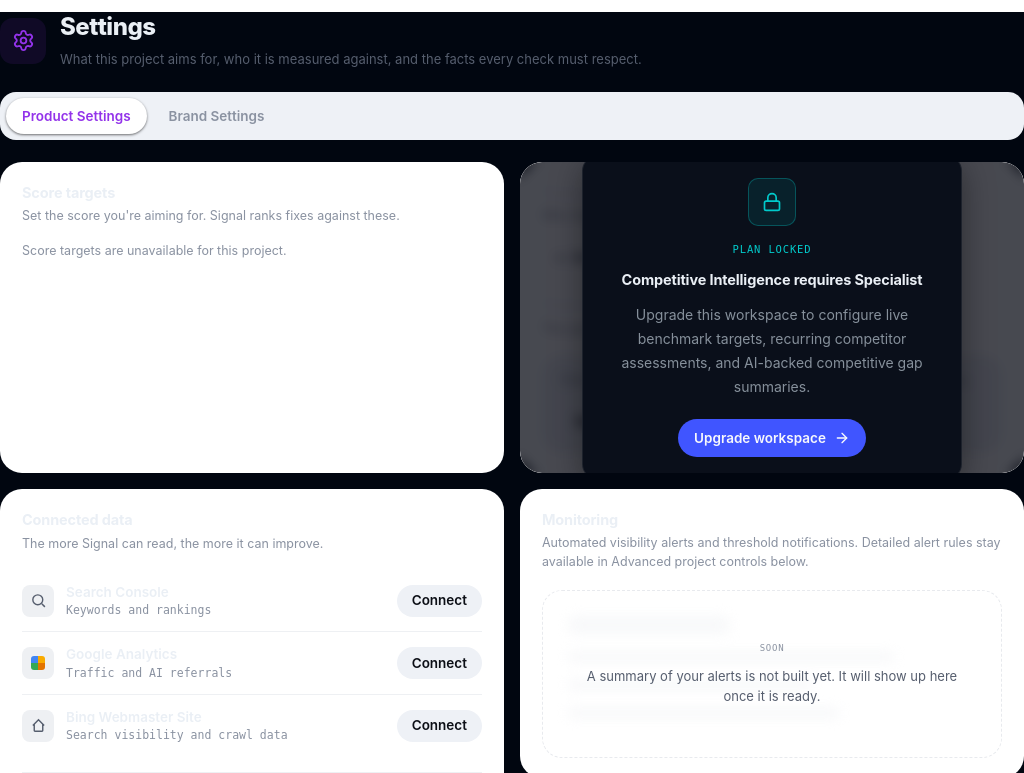
ProjectSettingsPage › offers the account connection step when the workspace grant is missing
The image size is (1024, 773).
What coordinates should you click on to do the following:
click the button with aria-label "Connect Google Analytics"
I would click on:
 (439, 663)
Its box is [397, 647, 482, 679].
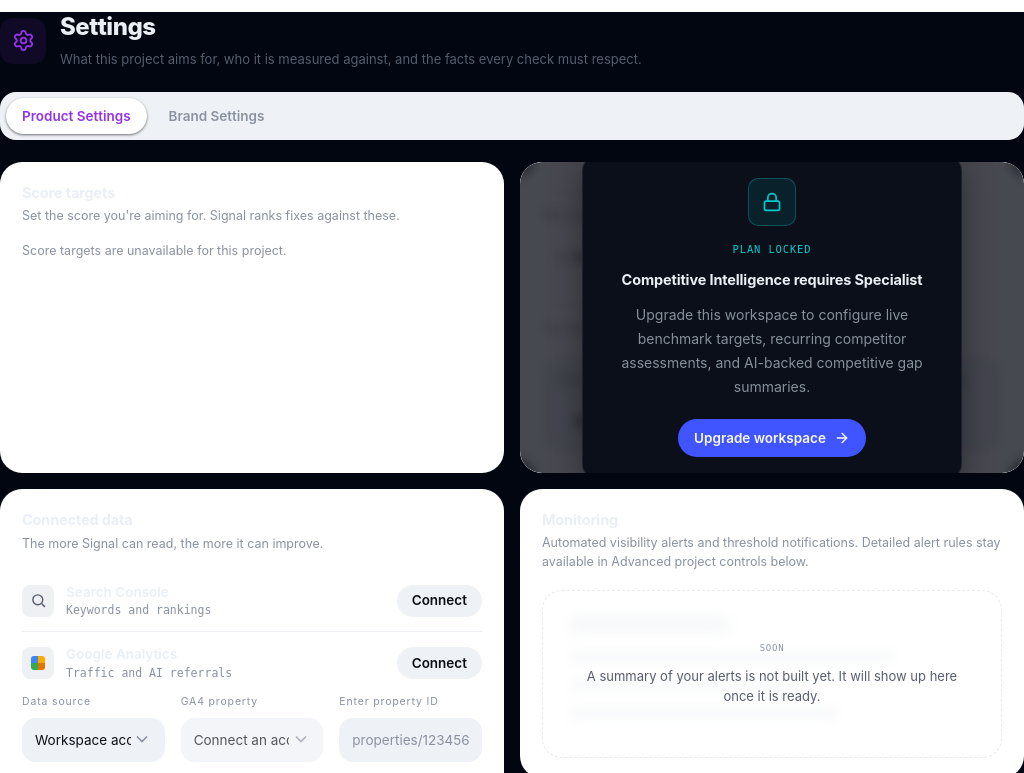
Result: the dropdown labelled "Data source" is shown at [22, 718, 165, 762]
